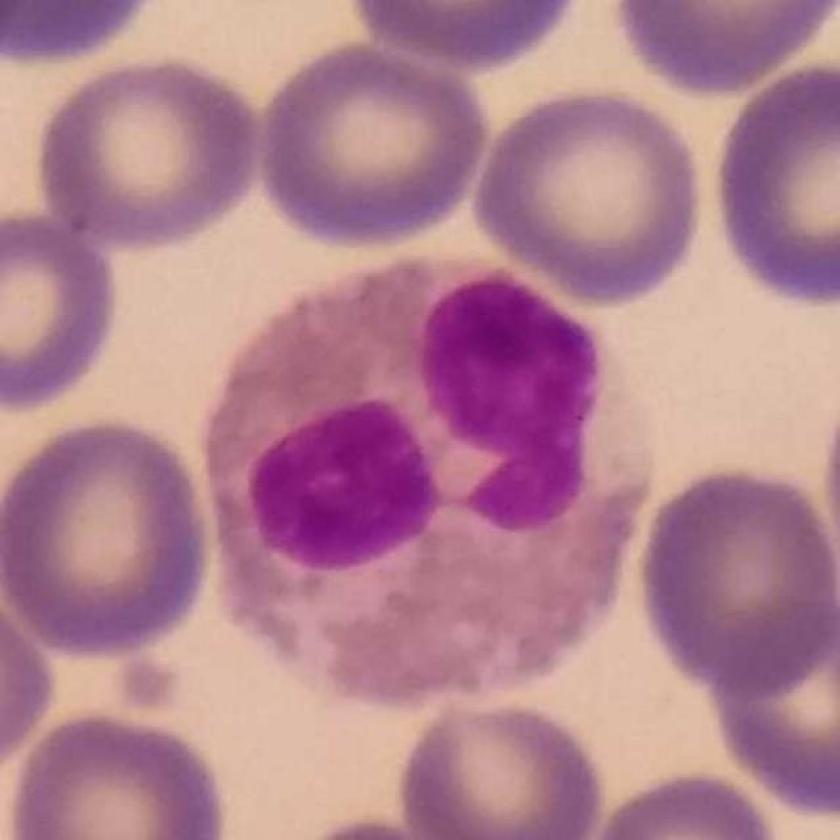eosinophil: (203, 256, 661, 706)
